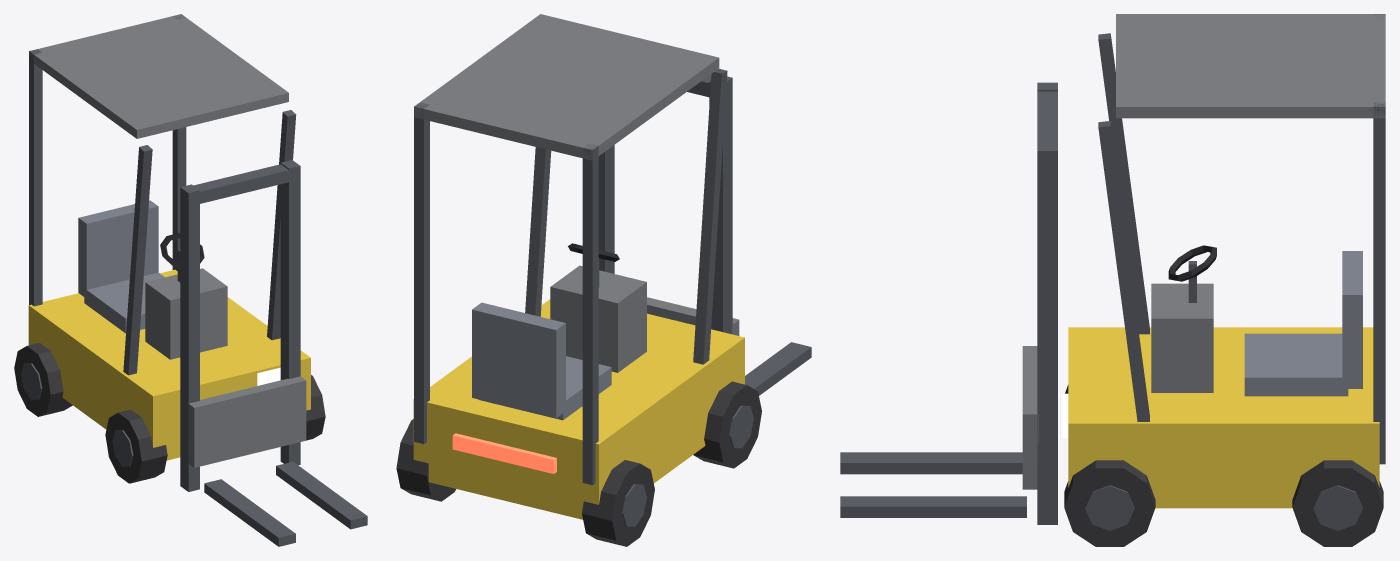
The model's file is SM_Cargo_Loader.glb.
The picture shows the model from 3 angles, left to right: view 1: azimuth 30°, elevation 25°; view 2: azimuth 150°, elevation 25°; view 3: azimuth 270°, elevation 25°; orthographic projection. The views are drawn at different scales.
Parts seen in each view (by area): view 1: SM_Cargo_Loader; view 2: SM_Cargo_Loader; view 3: SM_Cargo_Loader.
Boxes of the visible parts, left/top/right/bottom form: SM_Cargo_Loader: left=14, top=14, right=367, bottom=546; SM_Cargo_Loader: left=396, top=14, right=811, bottom=546; SM_Cargo_Loader: left=840, top=14, right=1385, bottom=546.
Bounding box in the file's own units: 1.3 × 2.29 × 2.63.
